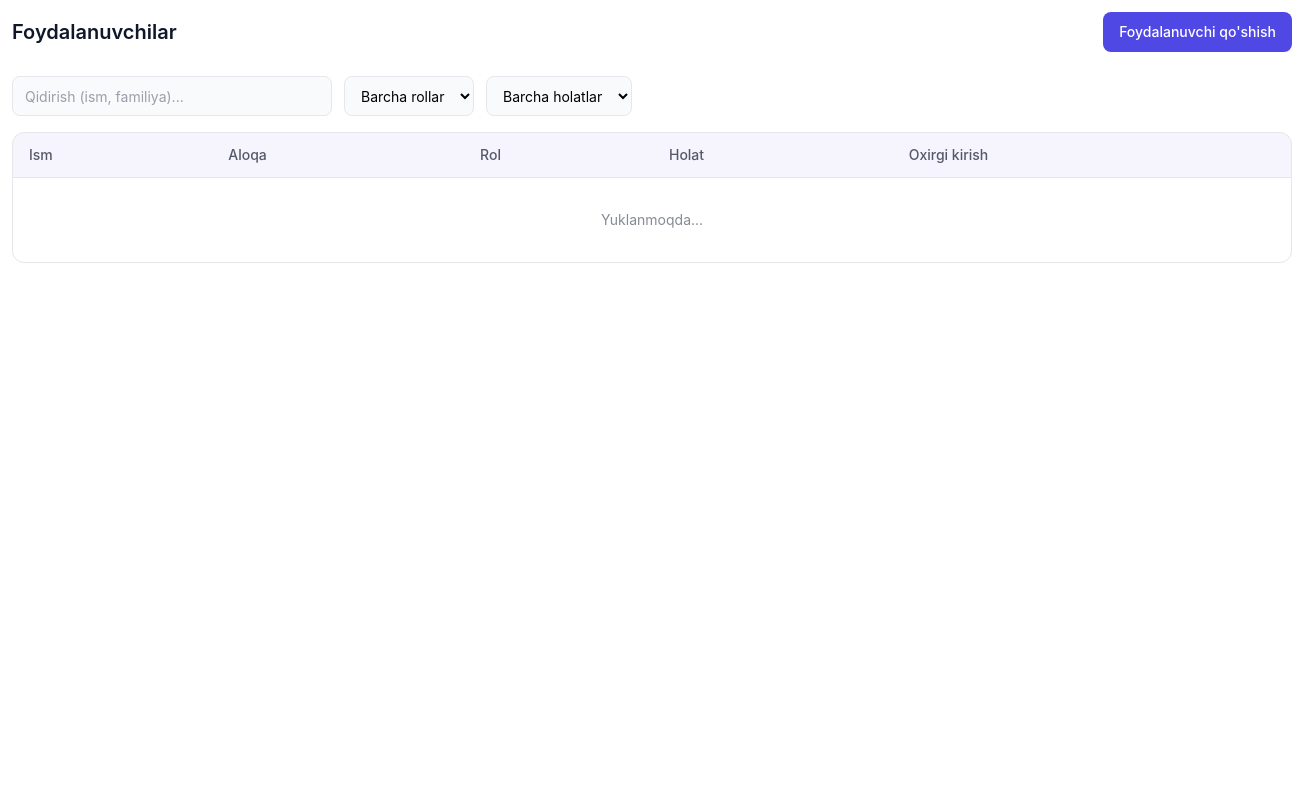
Scenario: UsersListPage — create user (Task 10.1) › lets an Admin create a Student or Teacher account
Click the button "Foydalanuvchi qo'shish".
click(1198, 32)  # box [1103,12,1292,52]
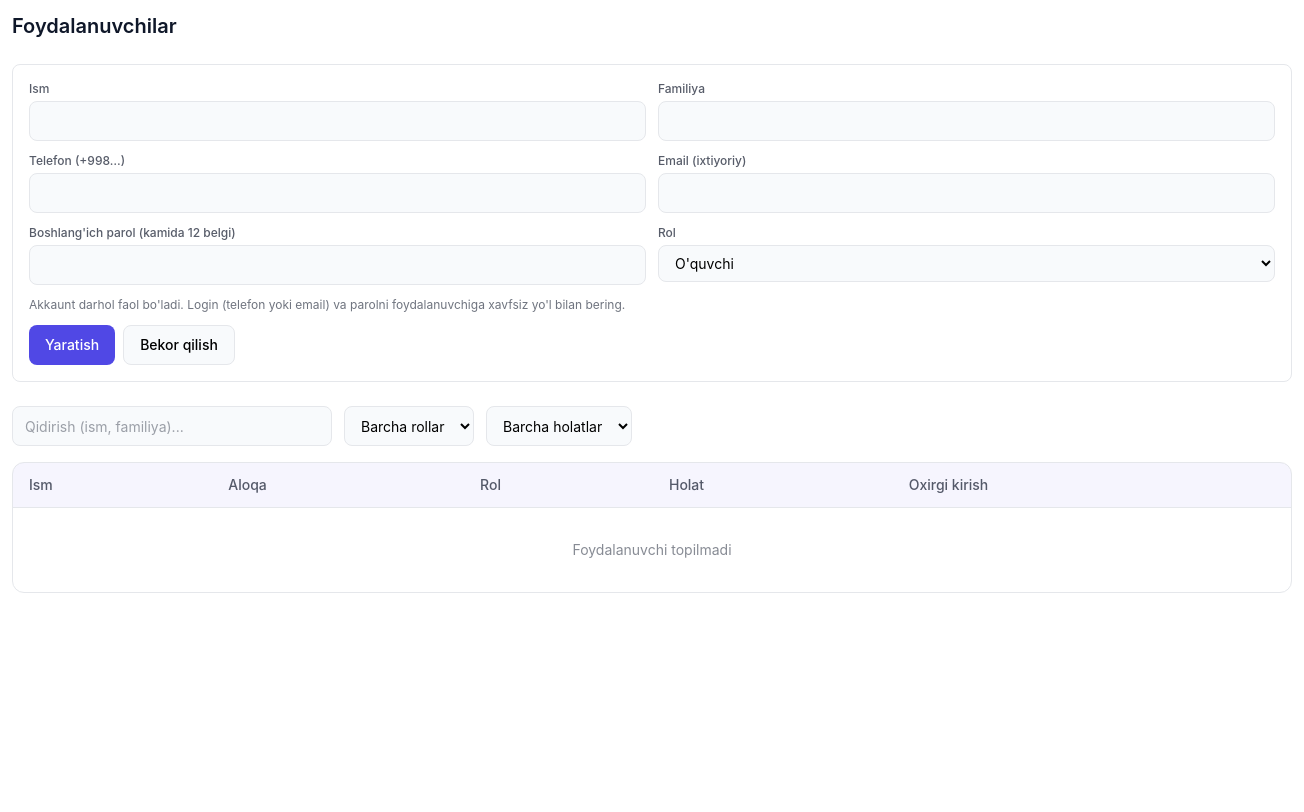
Type "Nodira" into the field labelled "Ism".
click(338, 121); type("Nodira")  # box [29,101,646,141]
Type "Karimova" into the field labelled "Familiya".
click(966, 121); type("Karimova")  # box [658,101,1275,141]
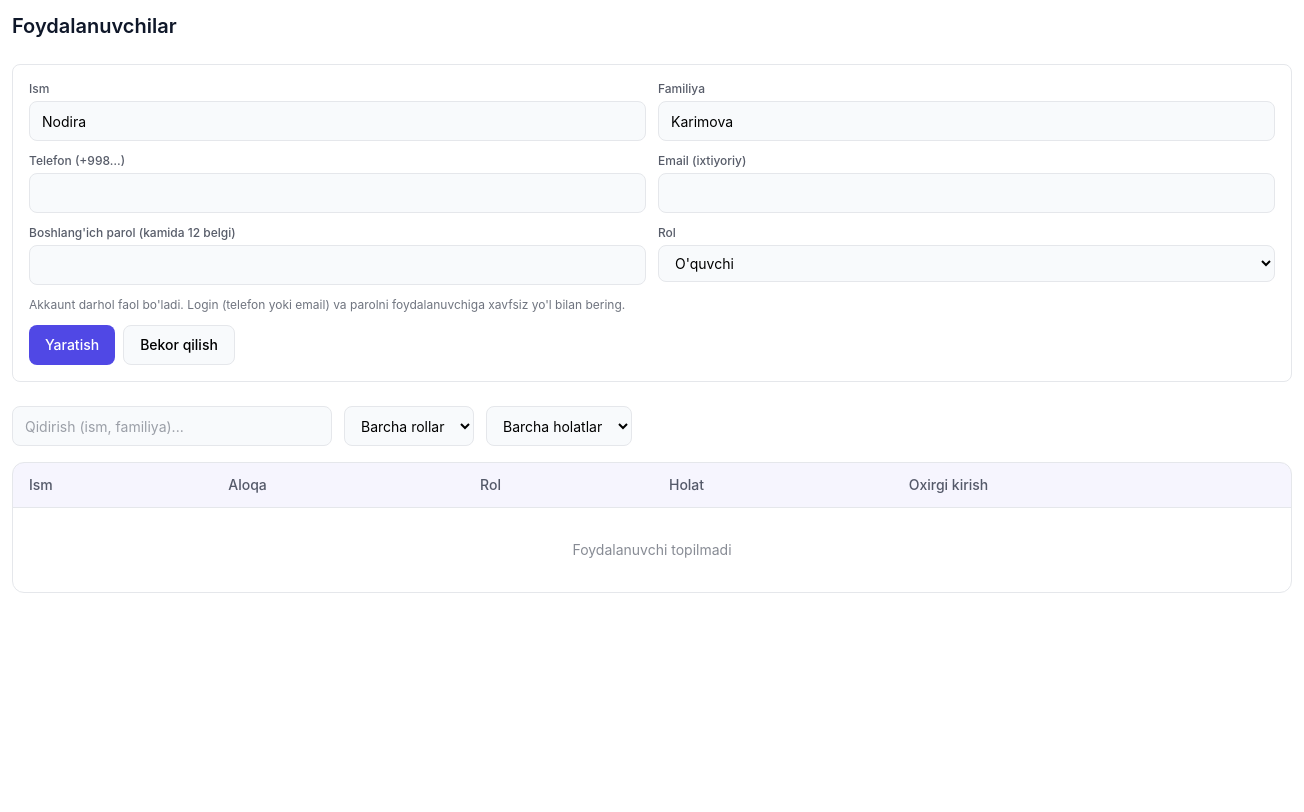
Type " +998901234567 " into the field labelled "Telefon (+998…)".
click(338, 193); type(" +998901234567 ")  # box [29,173,646,213]
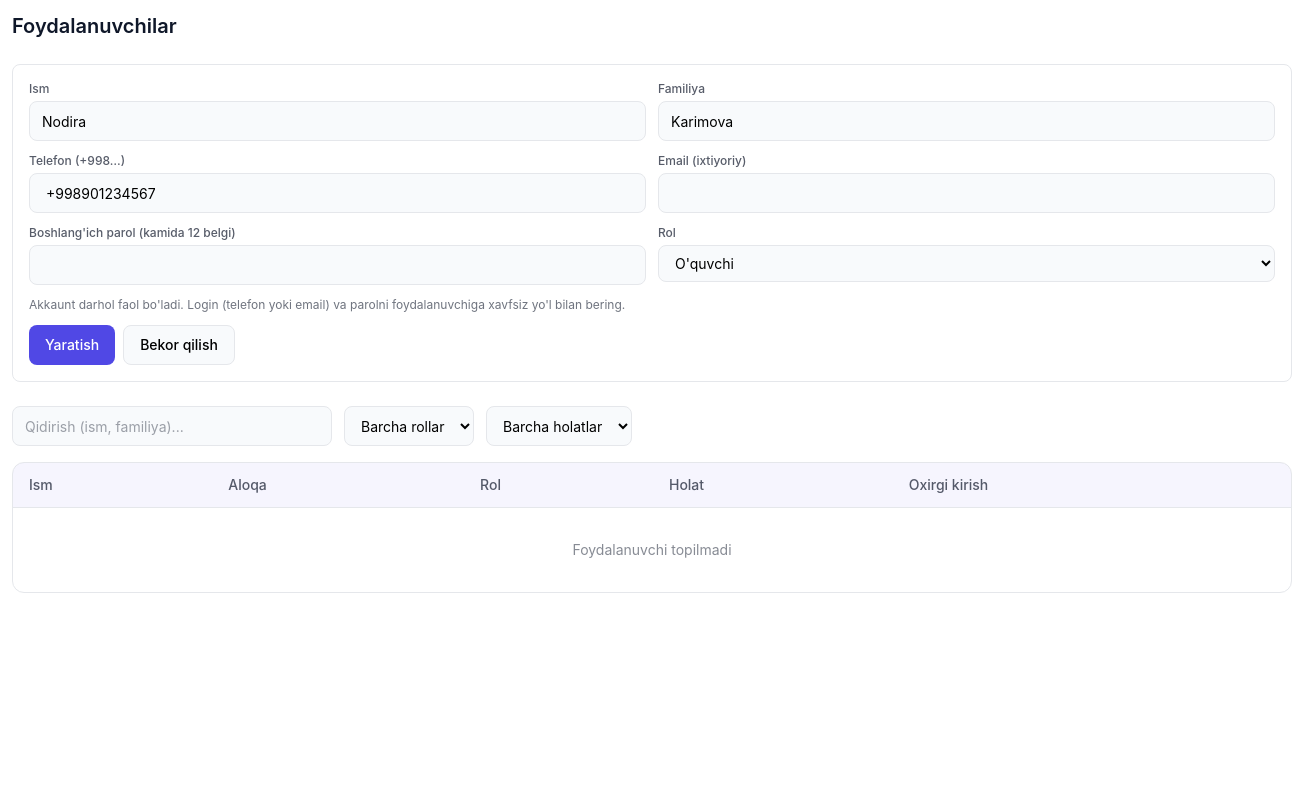
Type "Strong-Pass-1234" into the password field labelled "Boshlang'ich parol (kamida 12 belgi)".
click(338, 265); type("Strong-Pass-1234")  # box [29,245,646,285]
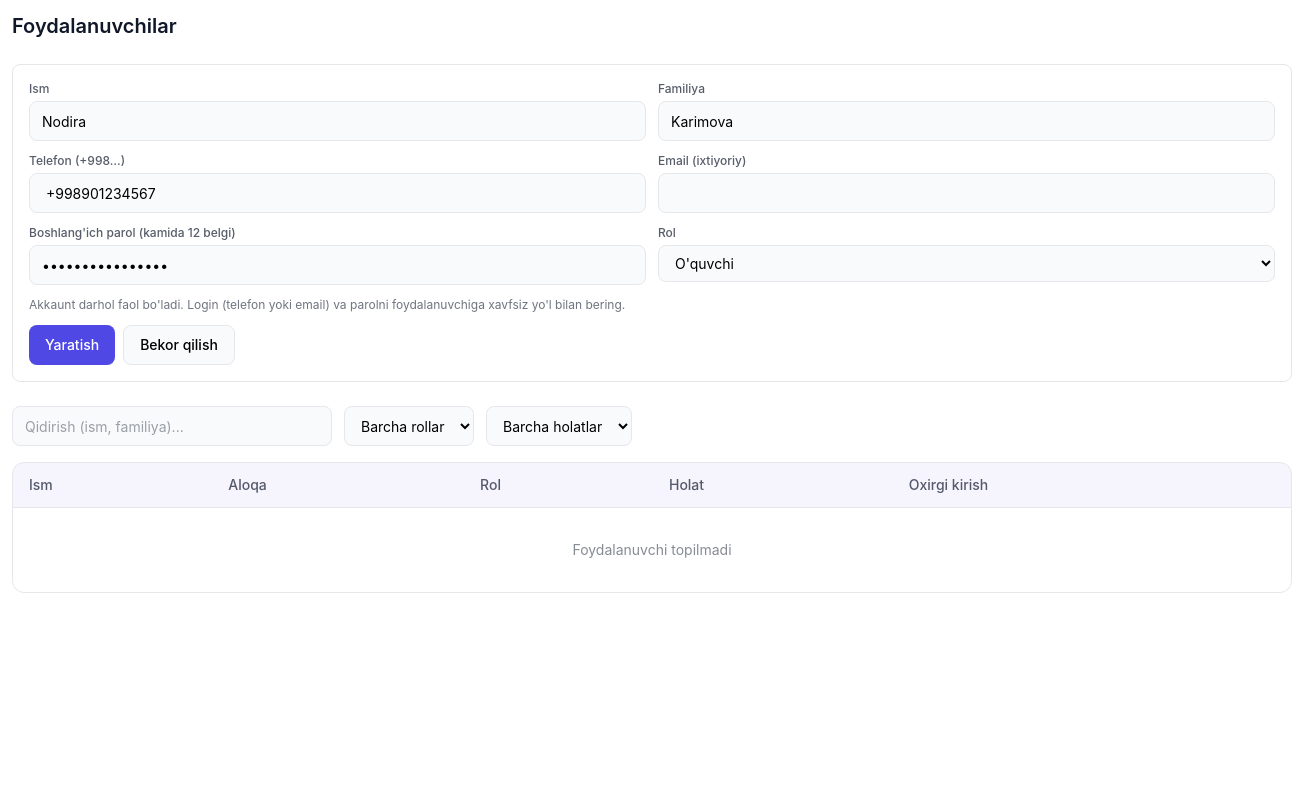
Select "O'qituvchi" in the dropdown labelled "Rol" at x=966, y=264, box [658,245,1275,282]
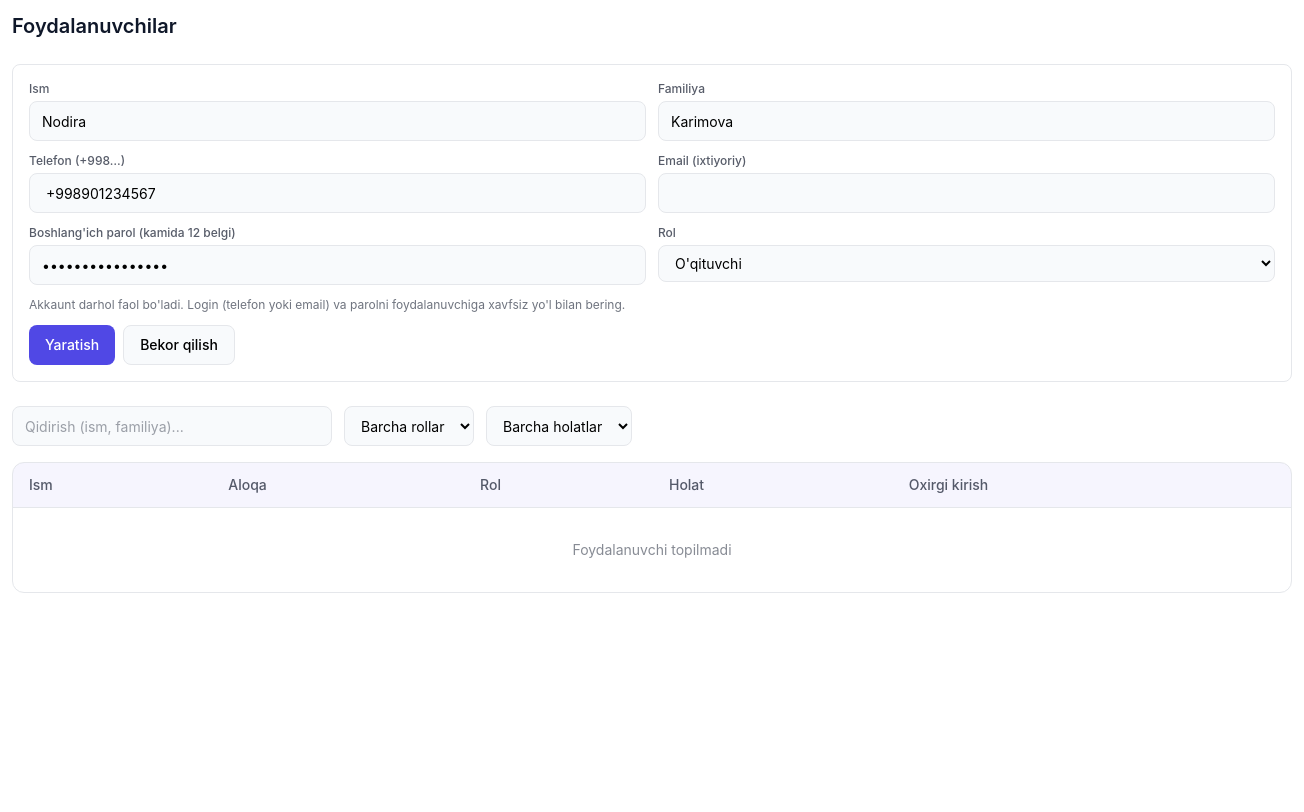
Click the button "Yaratish".
click(72, 345)  # box [29,325,115,365]
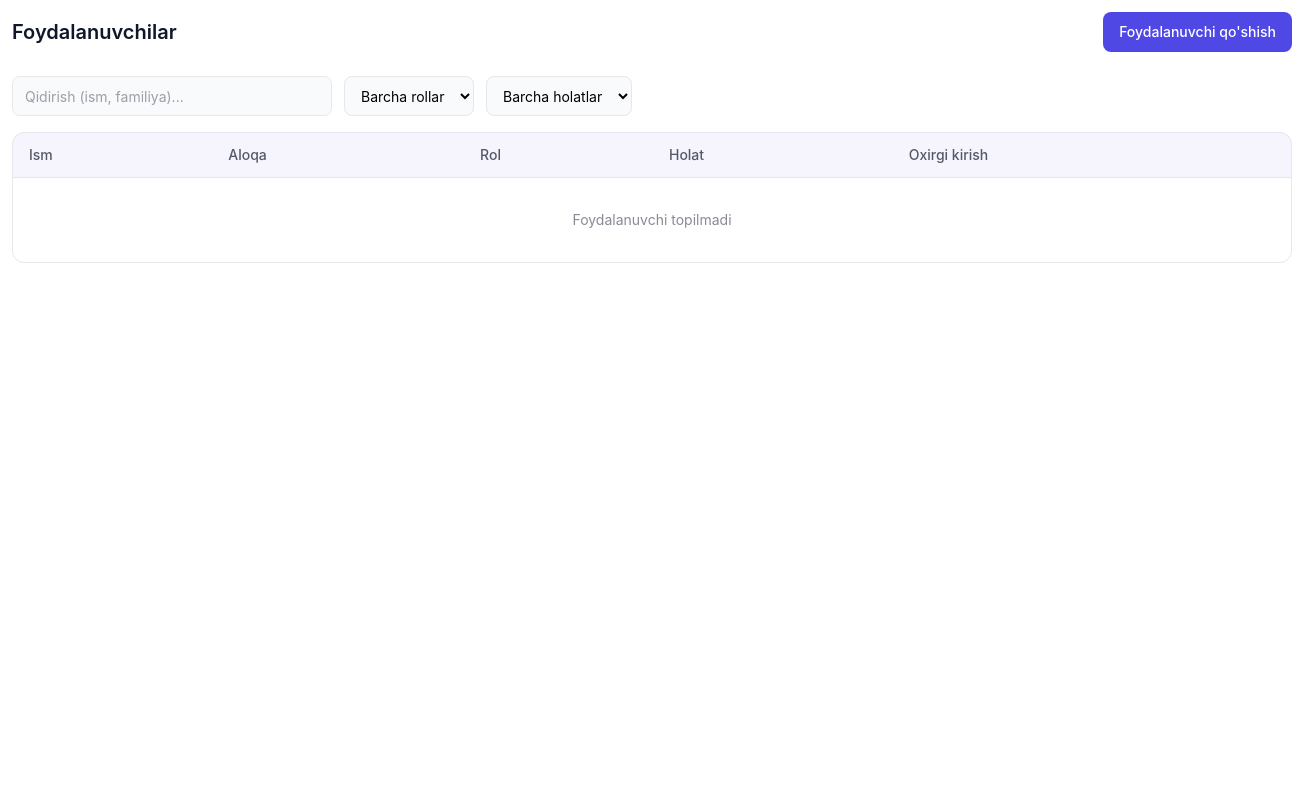
Now the form with test id "create-user-form" is gone
